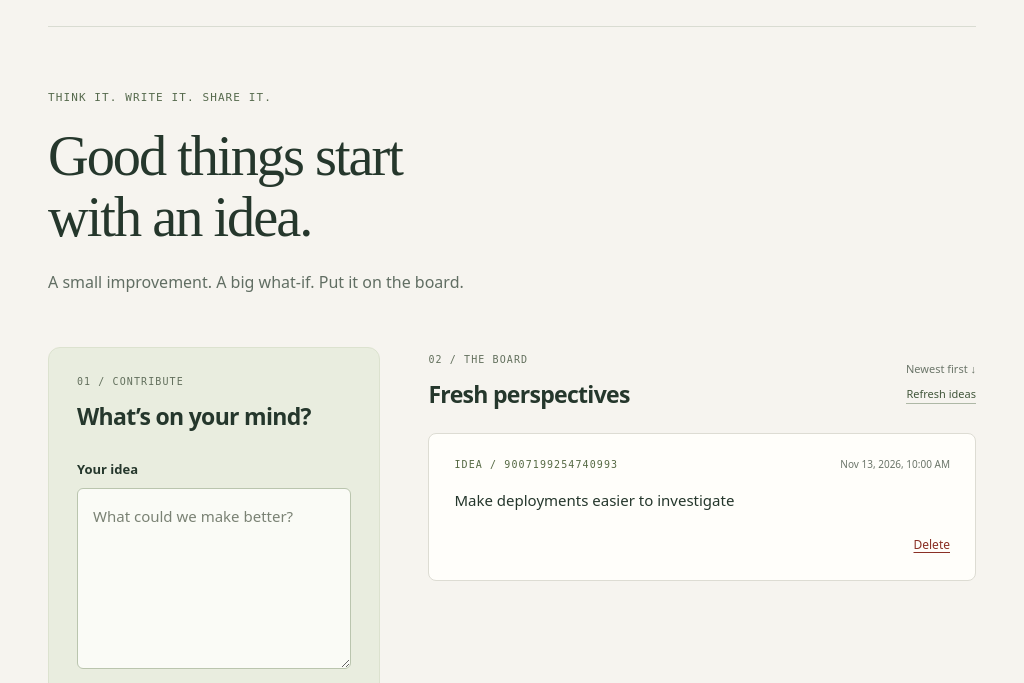
Test: Idea Board › shows a duplicate message and keeps the draft
The width and height of the screenshot is (1024, 683).
Expected: the button "Refresh ideas" is enabled, [906,386,976,404]
Type "Make deployments easier to investigate" into the text box labelled "Your idea".
click(214, 578); type("Make deployments easier to investigate")  # box [77,488,351,669]
(page scrolled)
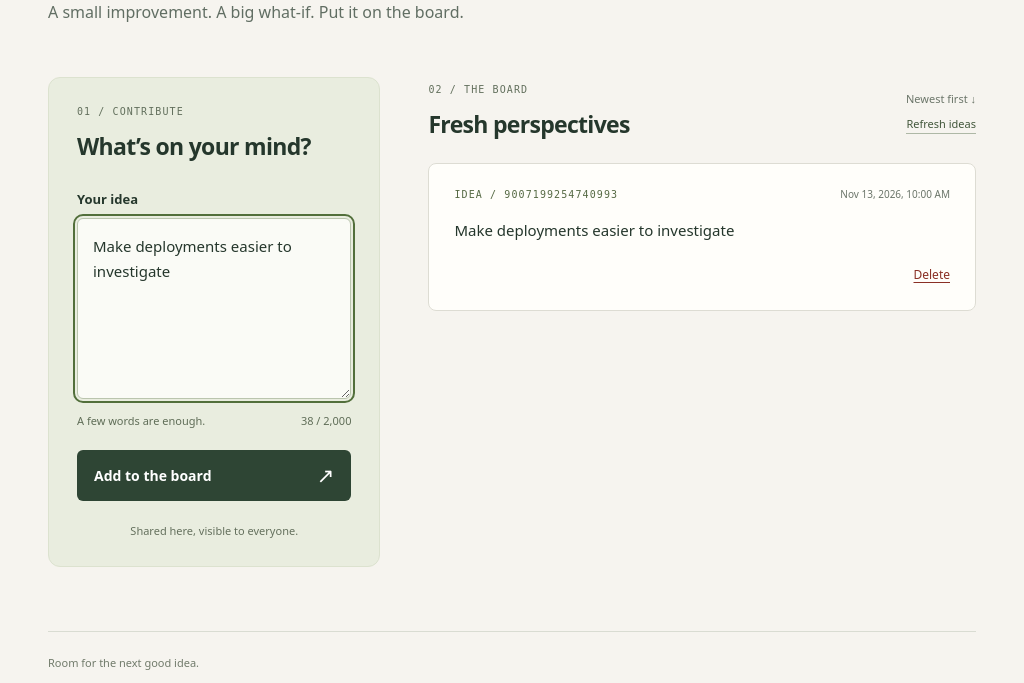
Click the button "Add to the board ↗".
click(214, 475)  # box [77,450,351,501]
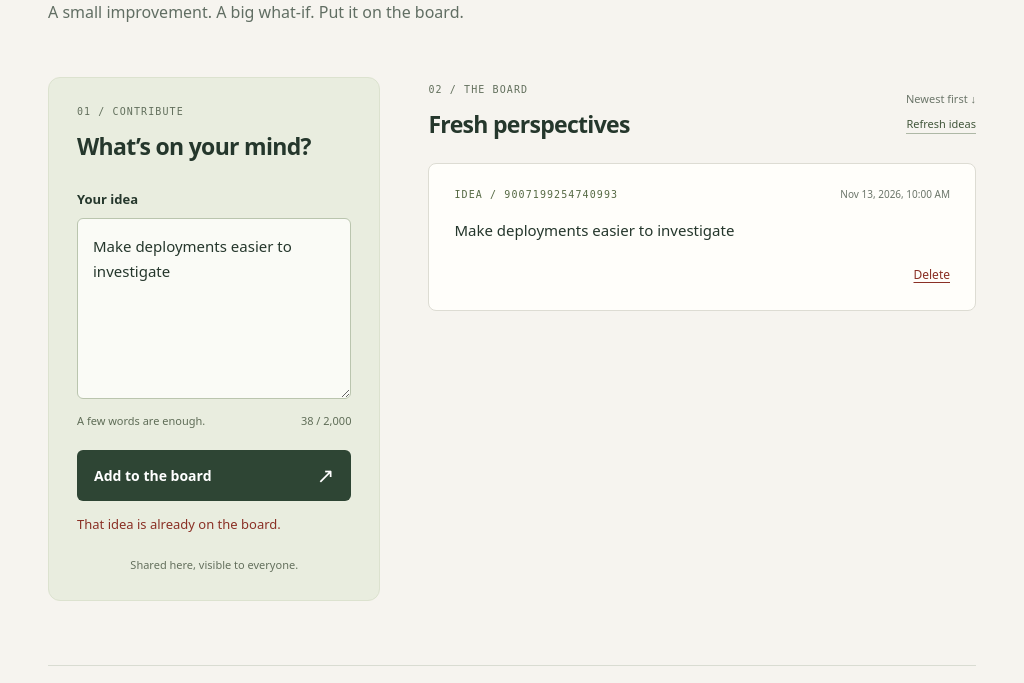
Expected: the number of list items is 1, [428,163,976,311]
Now the message "That idea is already on the board." is shown, box [77,515,281,533]
